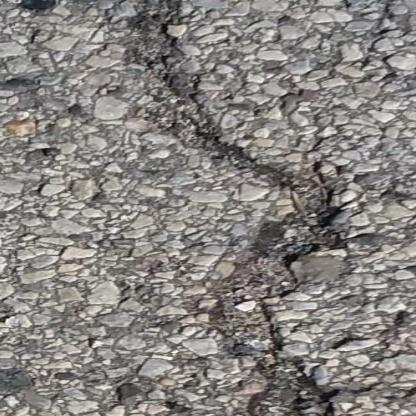Cracks: (107, 0, 381, 416)
